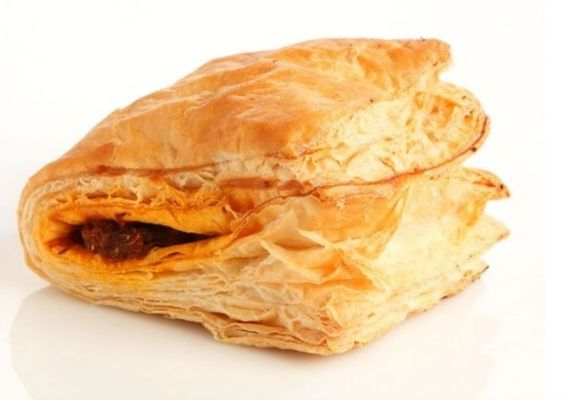soup: (22, 34, 503, 355)
